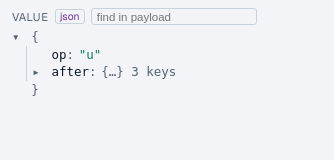
Test: JsonTree › searching inside the payload › reports no match rather than silently showing everything
Type "nothing-here" into the search field with placeholder "find in payload" at (174,17), box 91,8 -> 257,25
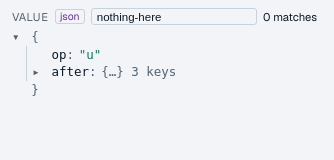
expect the text "0 matches" is shown: met, box 263,10 -> 317,24
